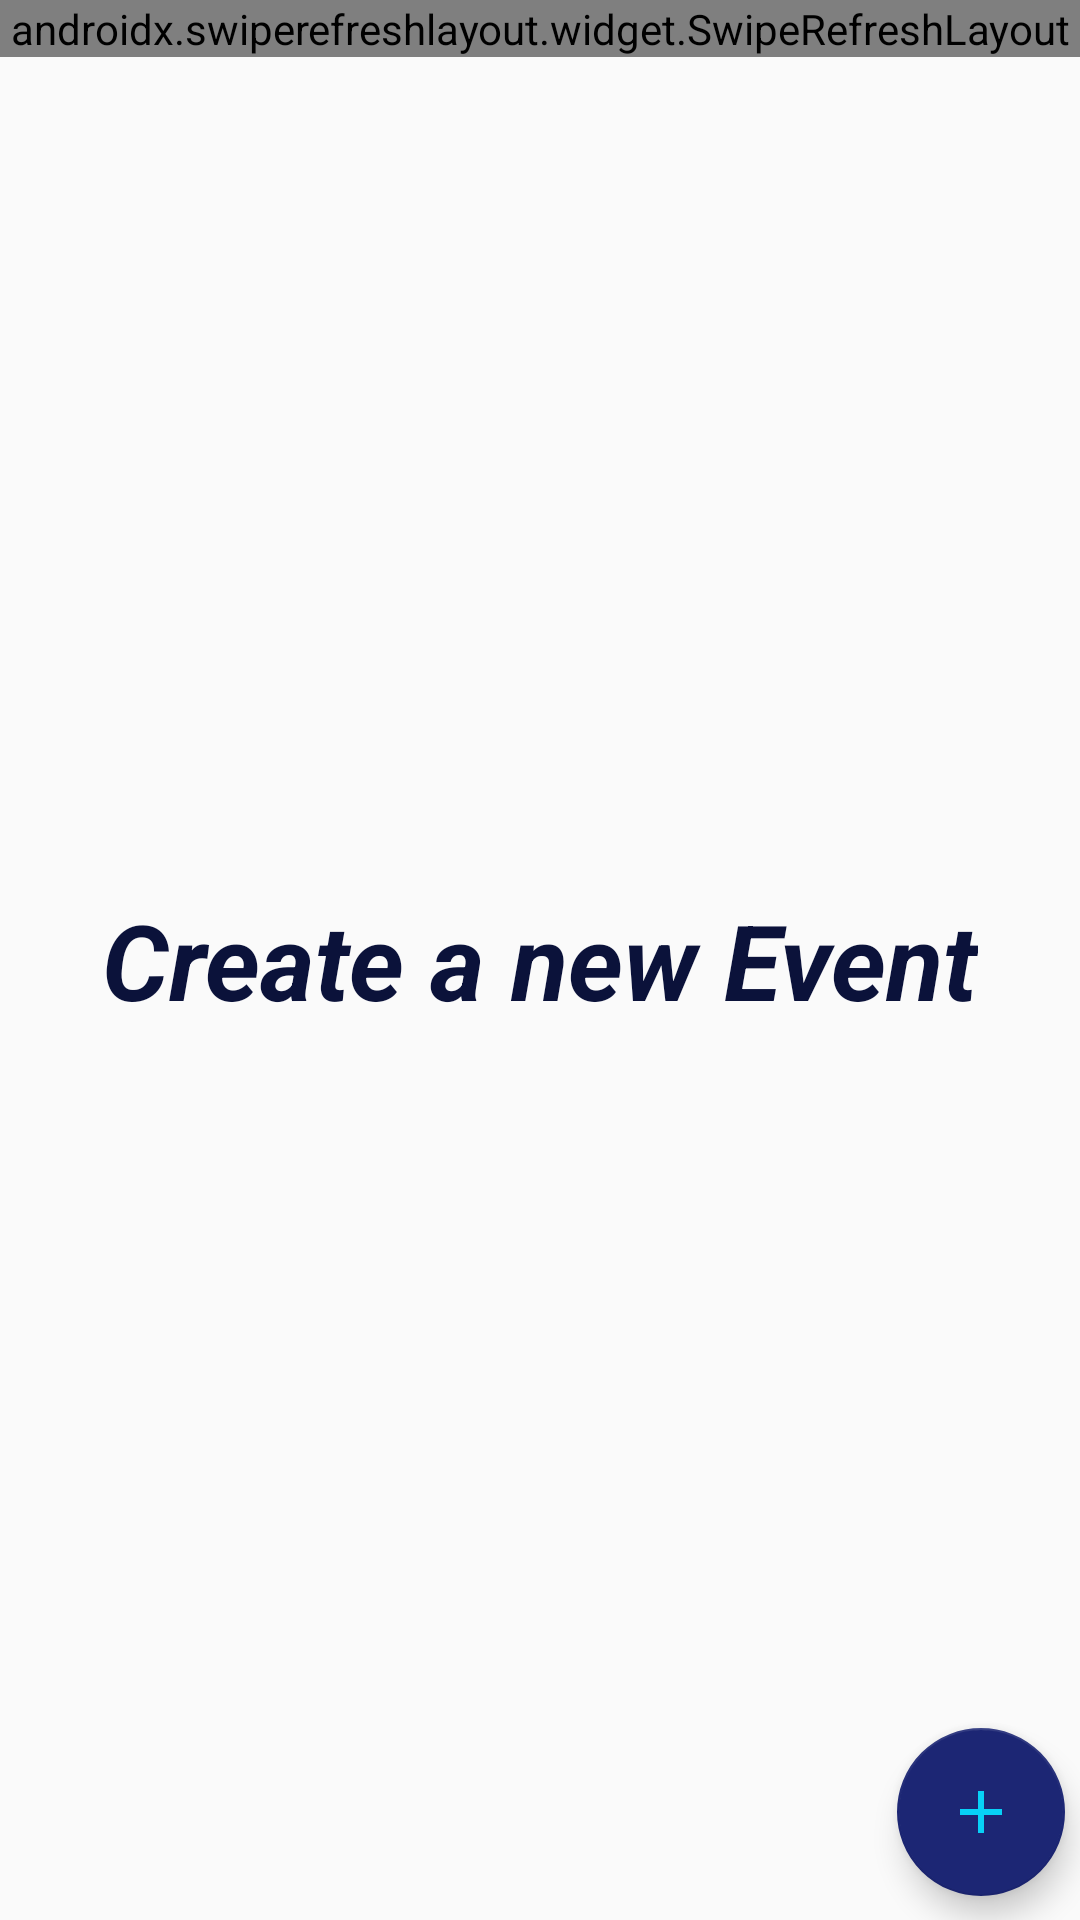

Screen size 1080px×1920px. Icon name, then its box in pixels as (x1, y1, x2, y2):
add: (897, 1728, 1065, 1896)
